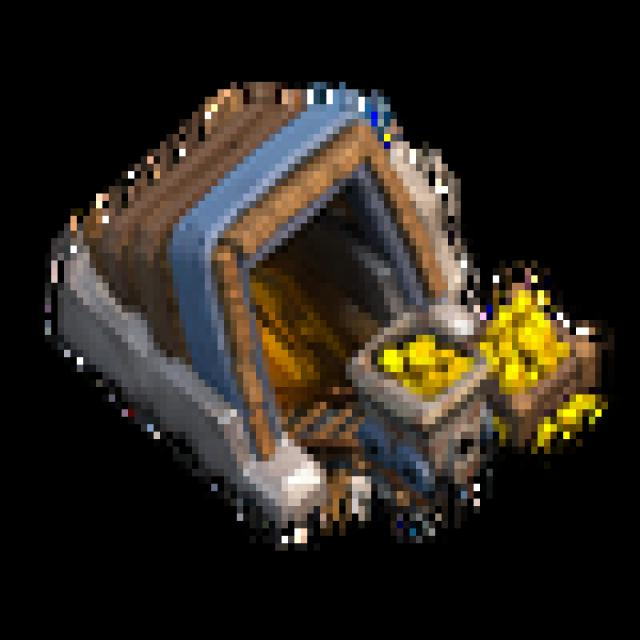gold_mine: (24, 47, 620, 575)
